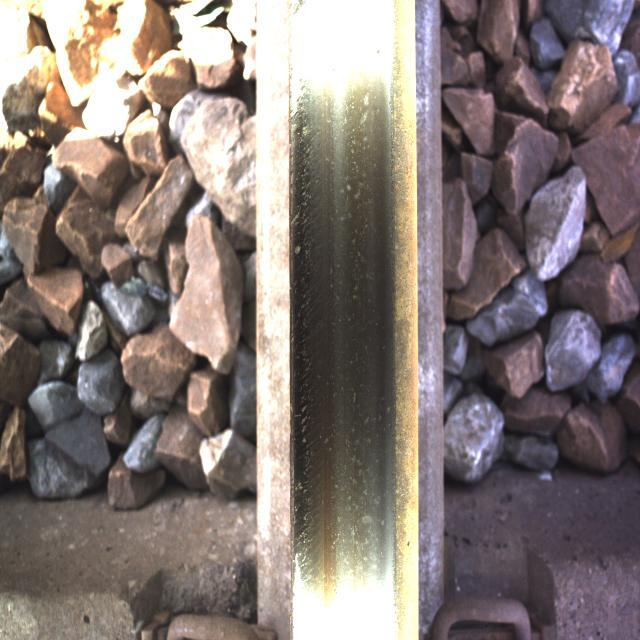normal: (296, 66, 382, 542)
